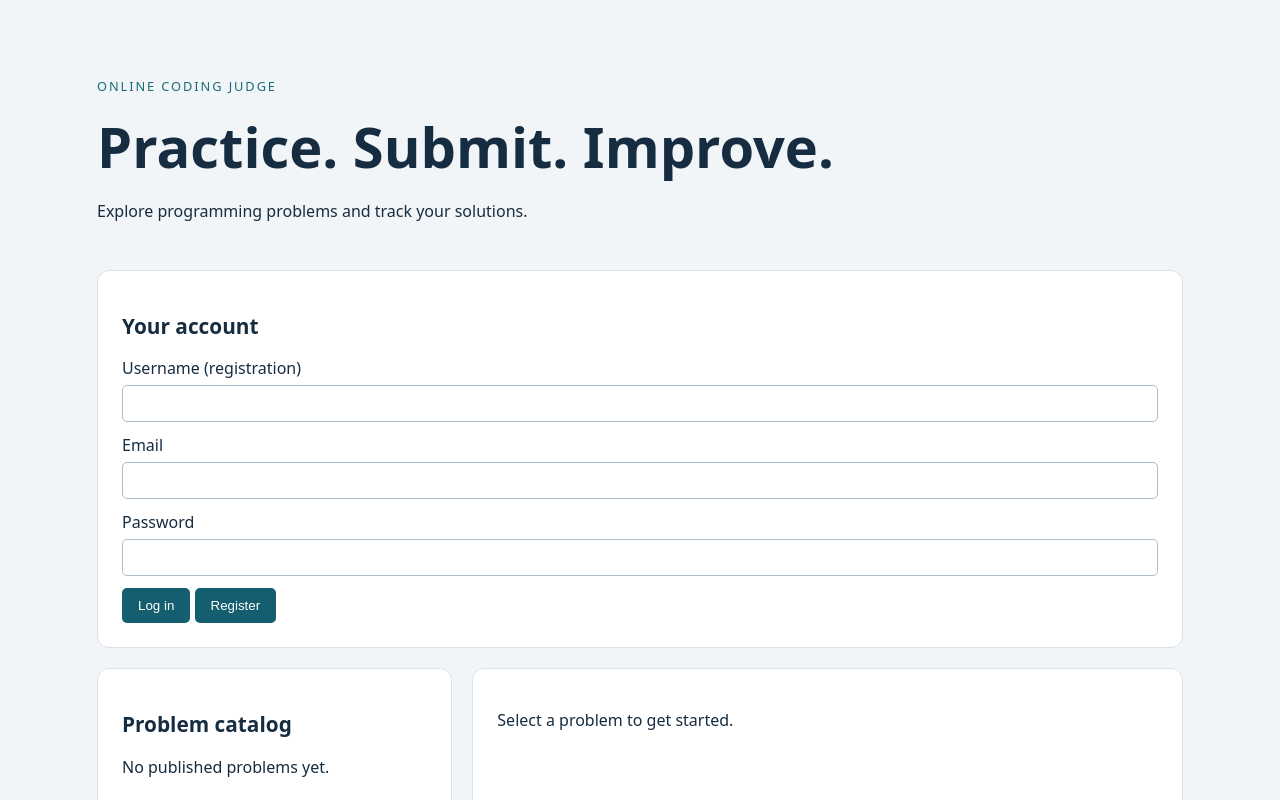
login sends credentials and exposes submission controls
Type "alice@example.com" into the field labelled "Email".
click(640, 481); type("alice@example.com")  # box top-left (122, 462), bottom-right (1158, 499)
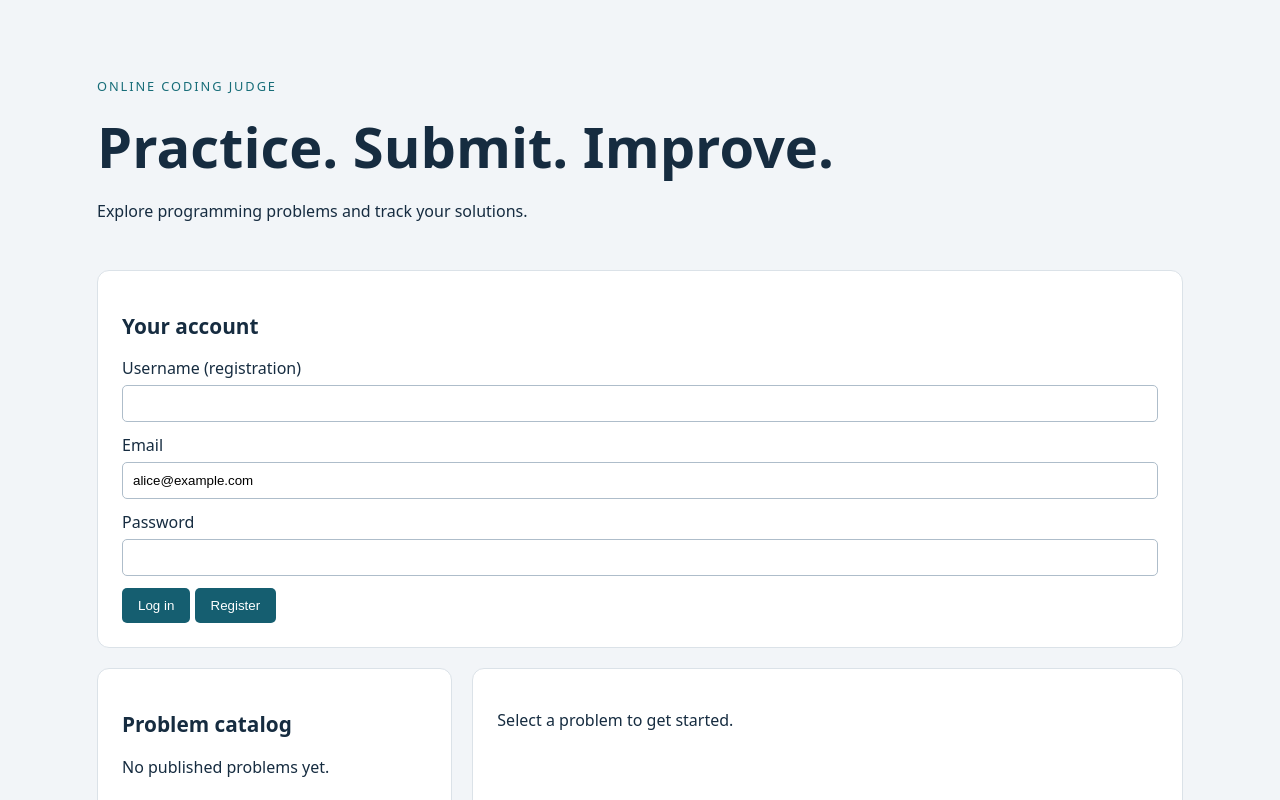
Type "password" into the password field labelled "Password".
click(640, 558); type("password")  # box top-left (122, 539), bottom-right (1158, 576)
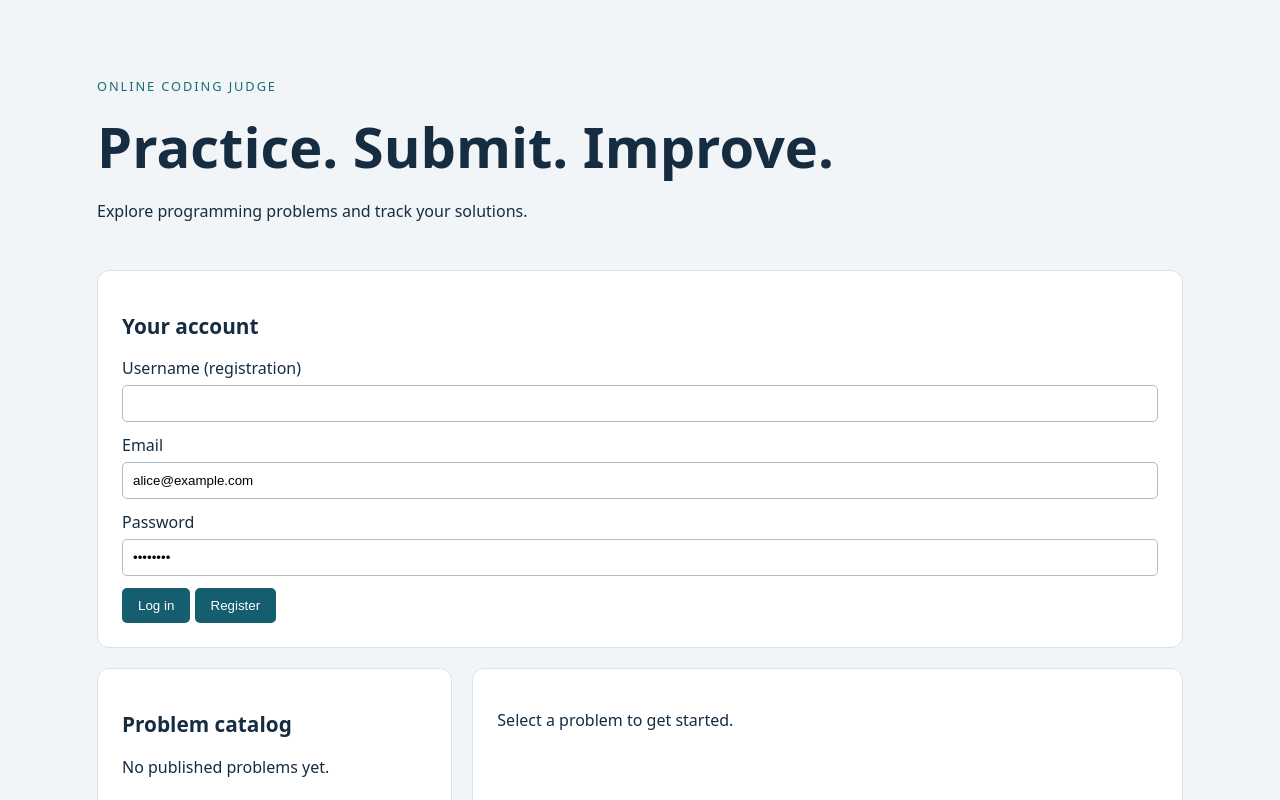
Click the button "Log in".
click(156, 606)  # box top-left (122, 588), bottom-right (190, 623)
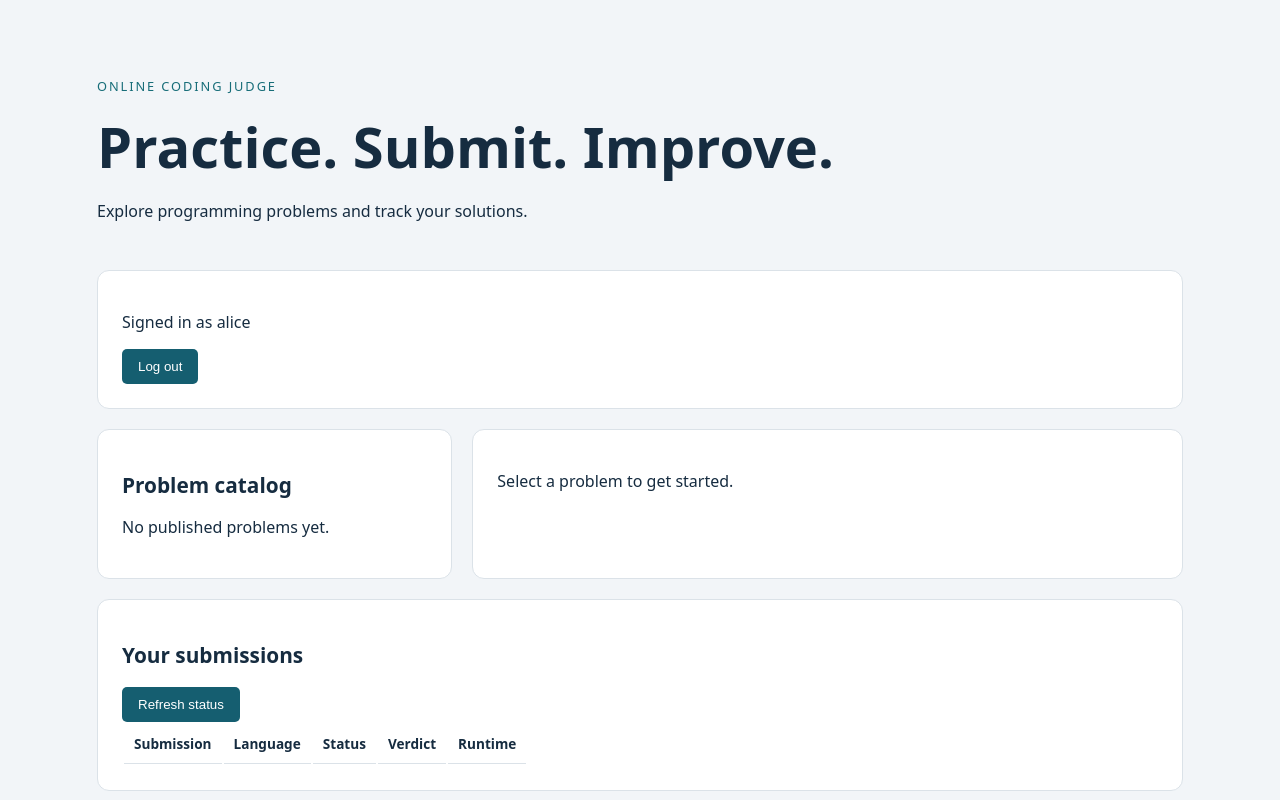
Check: the text "Signed in as alice" is shown, box top-left (122, 311), bottom-right (251, 333)
